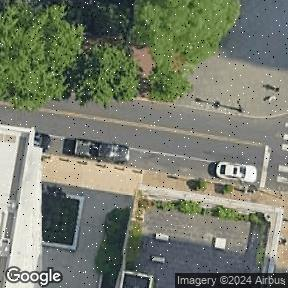vegetation: (0, 0, 238, 109), (95, 205, 130, 276), (210, 204, 262, 228), (121, 223, 147, 270), (174, 198, 205, 217), (190, 180, 205, 190)
